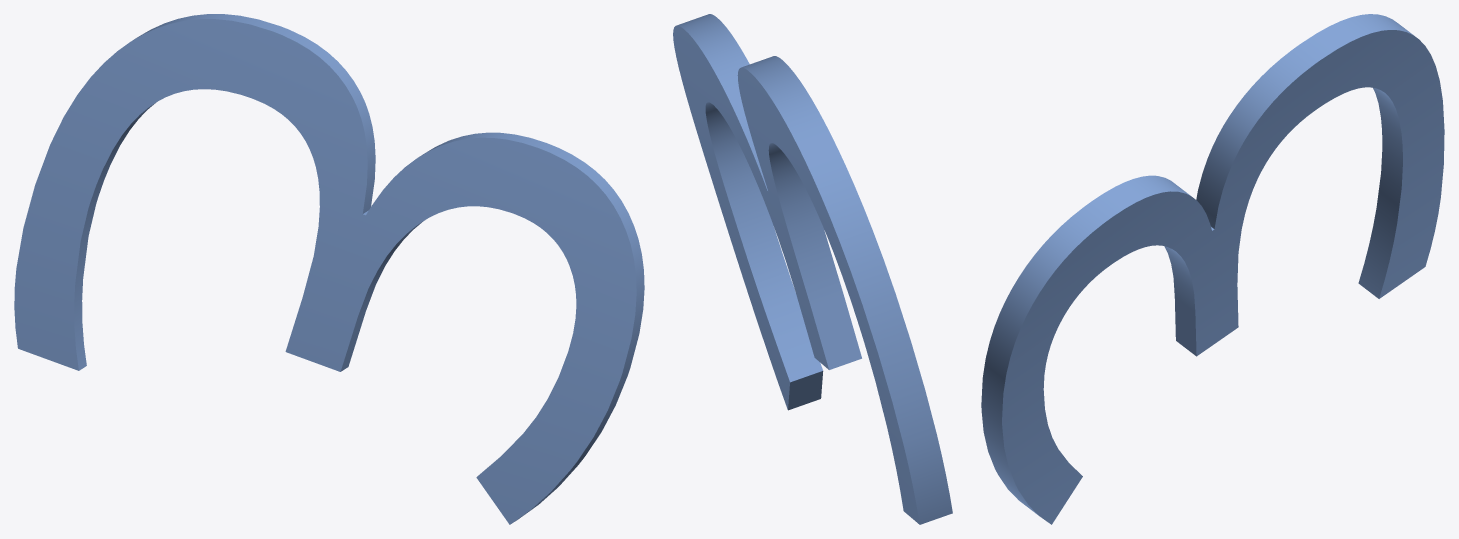
The model's file is Number_3.gltf.
3 views of the same model, side by side, from view 1: azimuth 30°, elevation 25°; view 2: azimuth 150°, elevation 25°; view 3: azimuth 270°, elevation 25° (orthographic). The views are drawn at different scales.
Parts seen in each view (by area): view 1: Sub_6_Cell_2_1_Number_3; view 2: Sub_6_Cell_2_1_Number_3; view 3: Sub_6_Cell_2_1_Number_3.
Boxes of the visible parts, x1=… form: Sub_6_Cell_2_1_Number_3: x1=14, y1=14, x2=644, y2=524; Sub_6_Cell_2_1_Number_3: x1=673, y1=14, x2=952, y2=524; Sub_6_Cell_2_1_Number_3: x1=981, y1=14, x2=1444, y2=524.
Bounding box in the file's own units: 0.0206 × 0.0198 × 0.0194.
